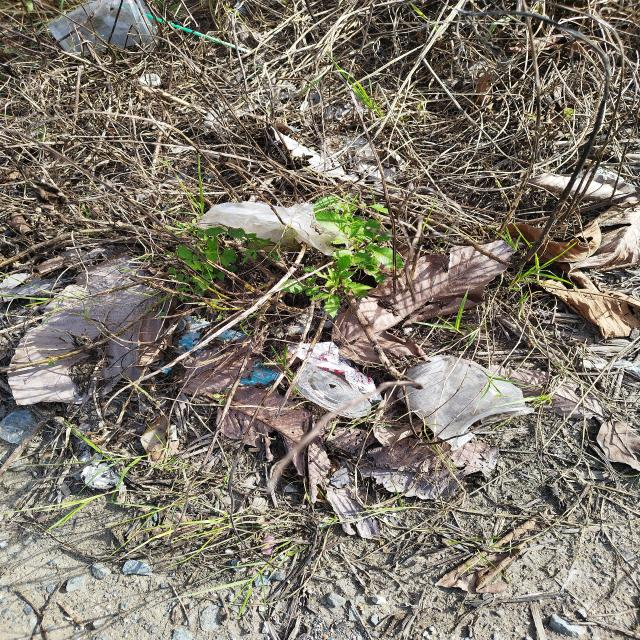drinking straw: (146, 13, 252, 53)
lid: (293, 363, 373, 418)
plastic glass: (396, 354, 536, 452), (46, 0, 160, 58)
